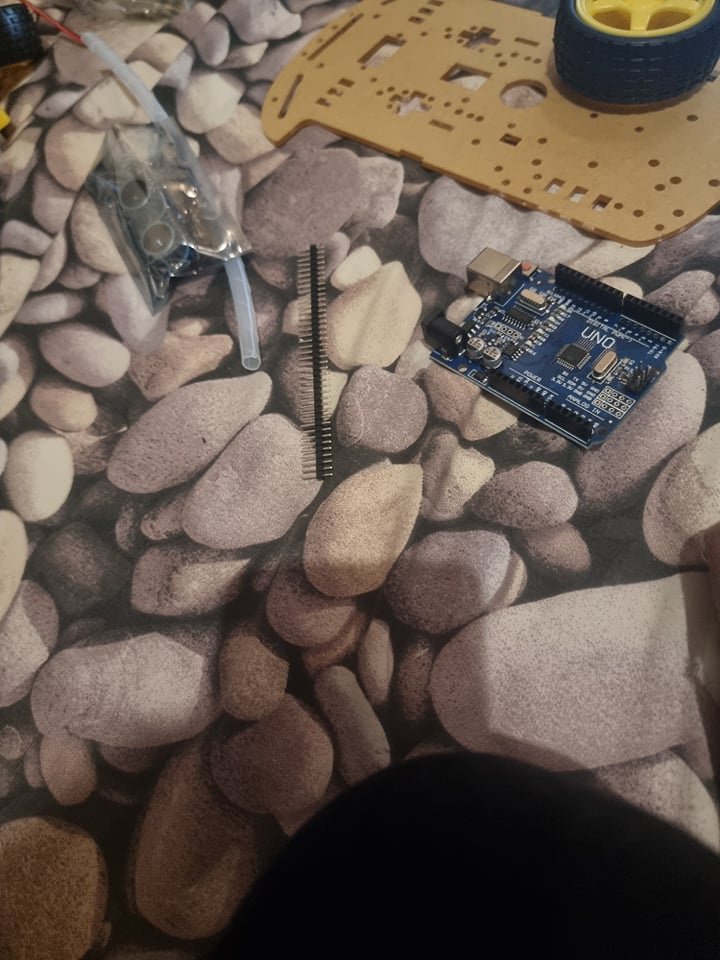SENSOR: (112, 174, 189, 275)
UNO R3: (414, 245, 688, 453)
